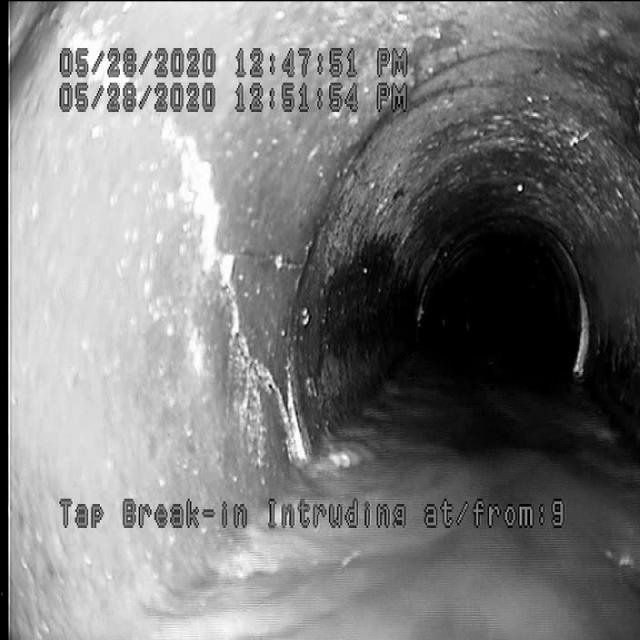Crack: (185, 154, 294, 420)
